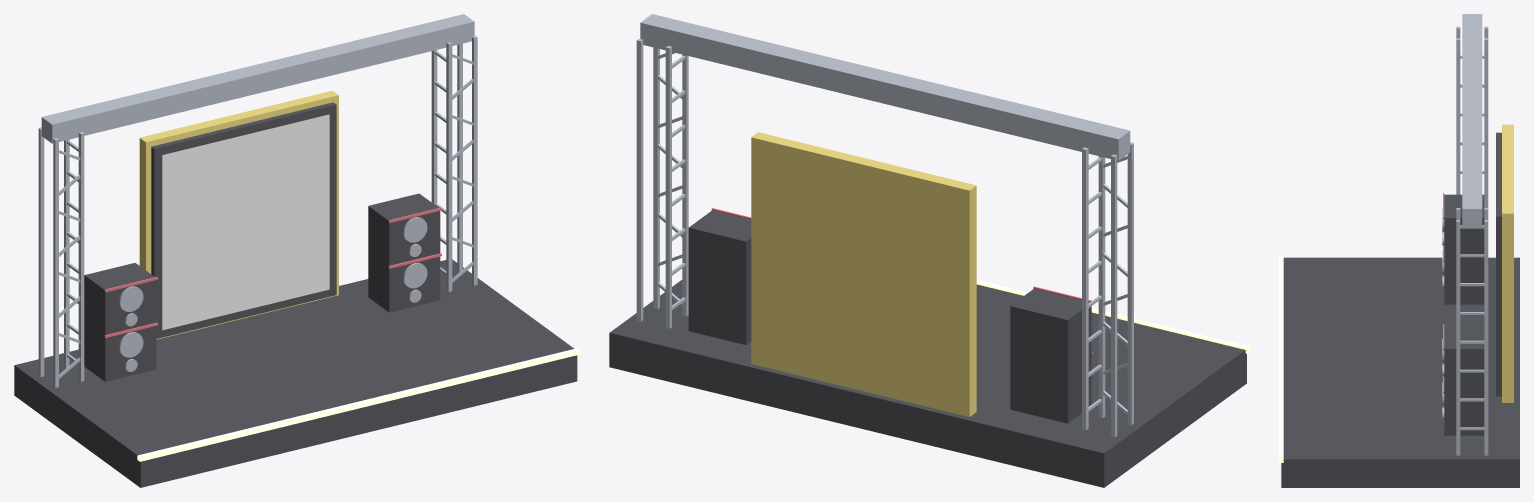
File: stage.glb
3 views of the same model, side by side, from view 1: azimuth 30°, elevation 25°; view 2: azimuth 150°, elevation 25°; view 3: azimuth 270°, elevation 25° (orthographic). The views are drawn at different scales.
Parts seen in each view (by area): view 1: stage, Screen; view 2: stage; view 3: stage.
Boxes of the visible parts, bbox=[...] form: stage: bbox=[14, 14, 580, 487]; Screen: bbox=[162, 114, 329, 330]; stage: bbox=[609, 14, 1250, 487]; stage: bbox=[1279, 14, 1519, 487].
Bounding box in the file's own units: 12.1 × 7.65 × 6.06.
